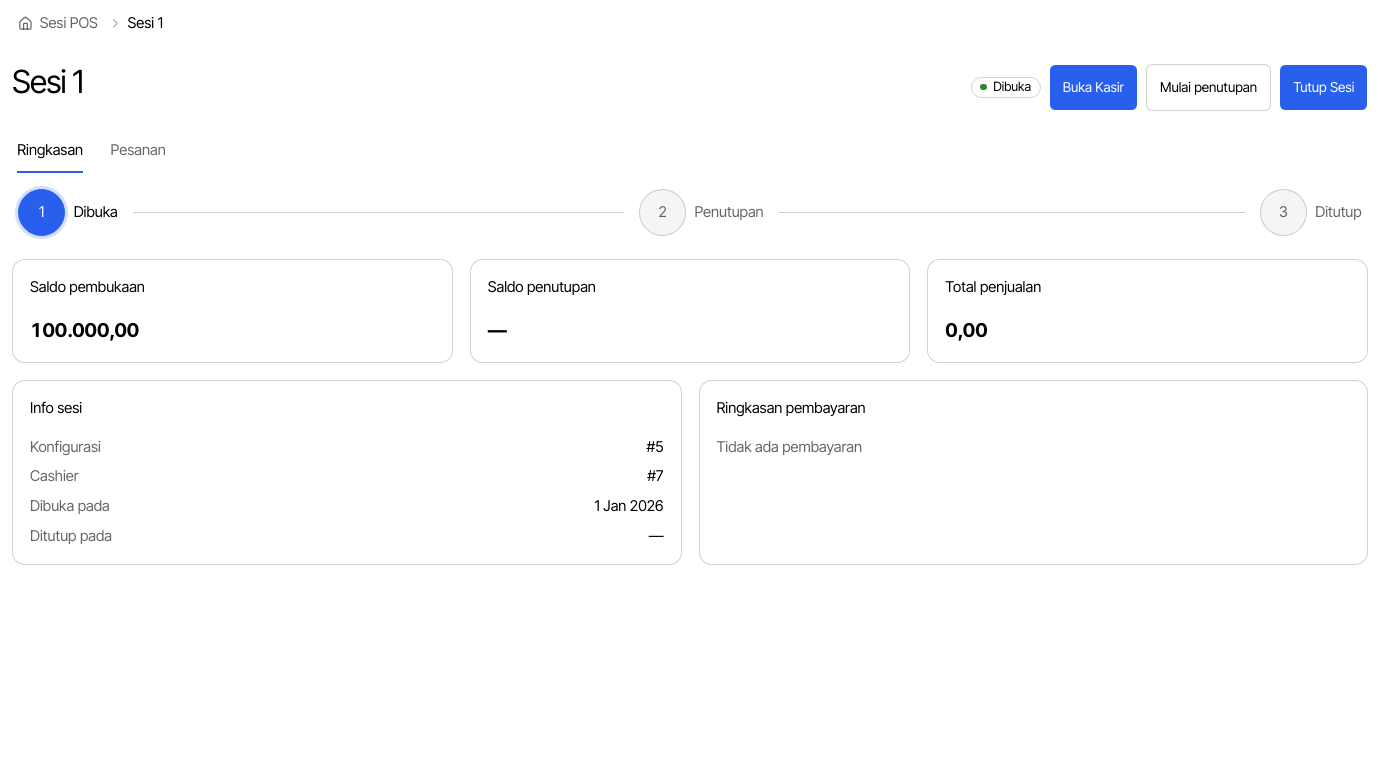
it: PosSessionDetail remainder › shows the empty orders and payments states
Expected: the heading "Sesi 1" is shown, 12,64 -> 83,100
Expected: the text "Tidak ada pembayaran" is shown, 716,438 -> 862,456
Click the tab "Pesanan": (138, 151) 110,128 -> 167,174
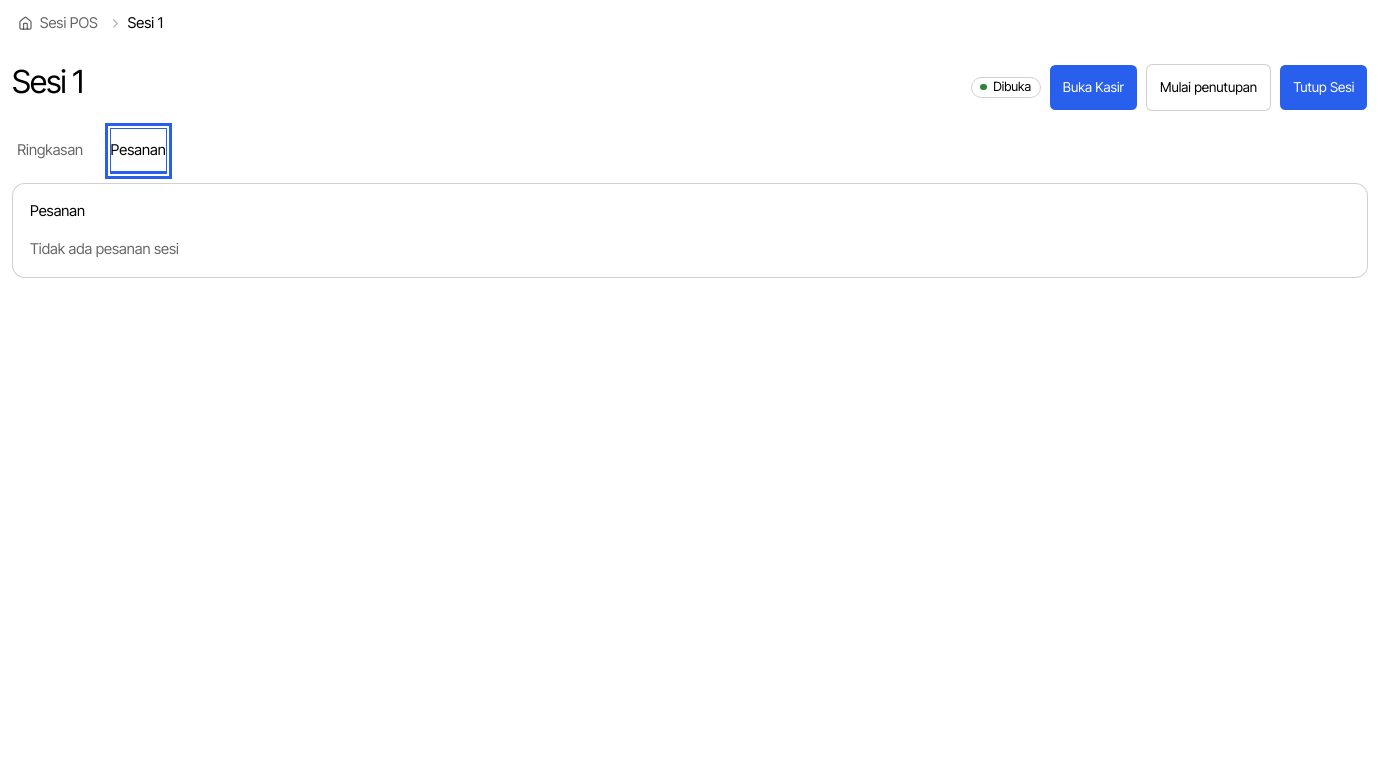
Expected: the text "Tidak ada pesanan sesi" is shown, 30,240 -> 179,258
